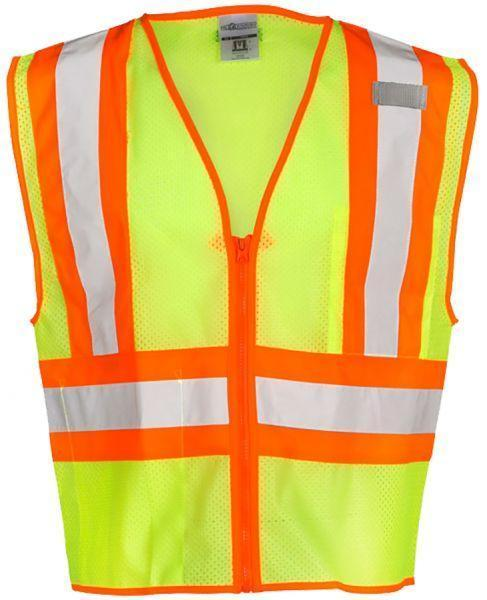vest: (5, 1, 479, 597)
